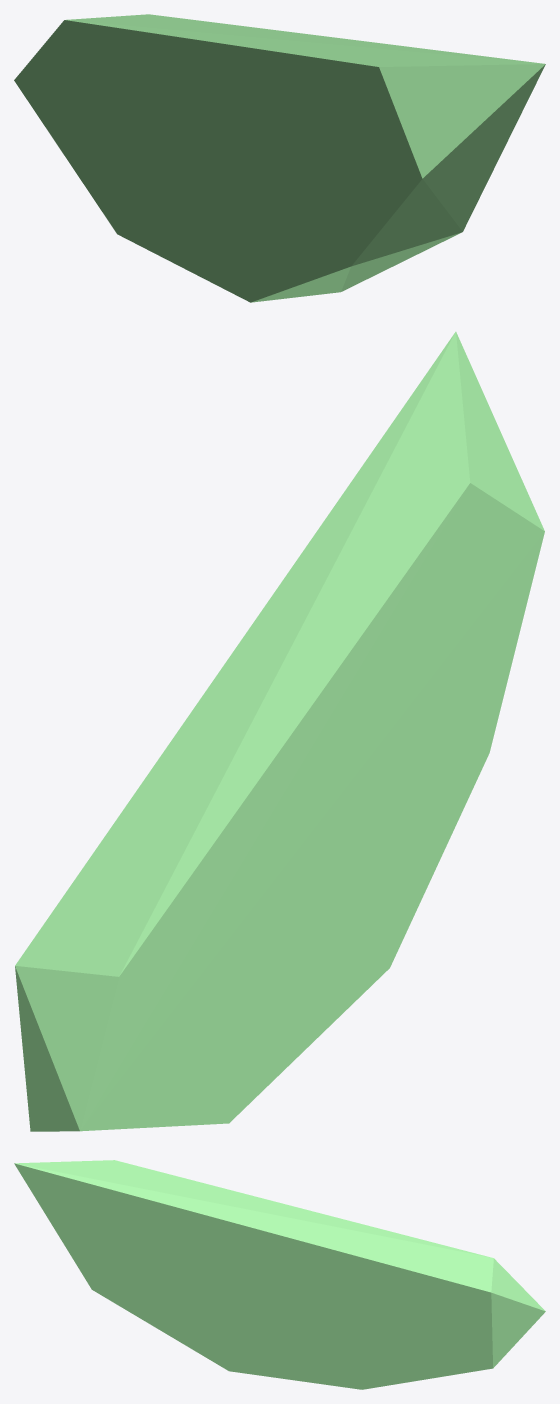
Rendered from UMIRobot_UMIRobot_link_5_convex_coll_43.dae.
3 views of the same model, one above another, from view 1: azimuth 30°, elevation 25°; view 2: azimuth 150°, elevation 25°; view 3: azimuth 270°, elevation 25° (orthographic). The views are drawn at different scales.
Parts seen in each view (by area): view 1: node; view 2: node; view 3: node.
Boxes of the visible parts, x1=… form: node: x1=14, y1=14, x2=545, y2=302; node: x1=15, y1=331, x2=544, y2=1131; node: x1=14, y1=1160, x2=545, y2=1389.
Bounding box in the file's own units: 0.00289 × 0.00809 × 0.0162.
